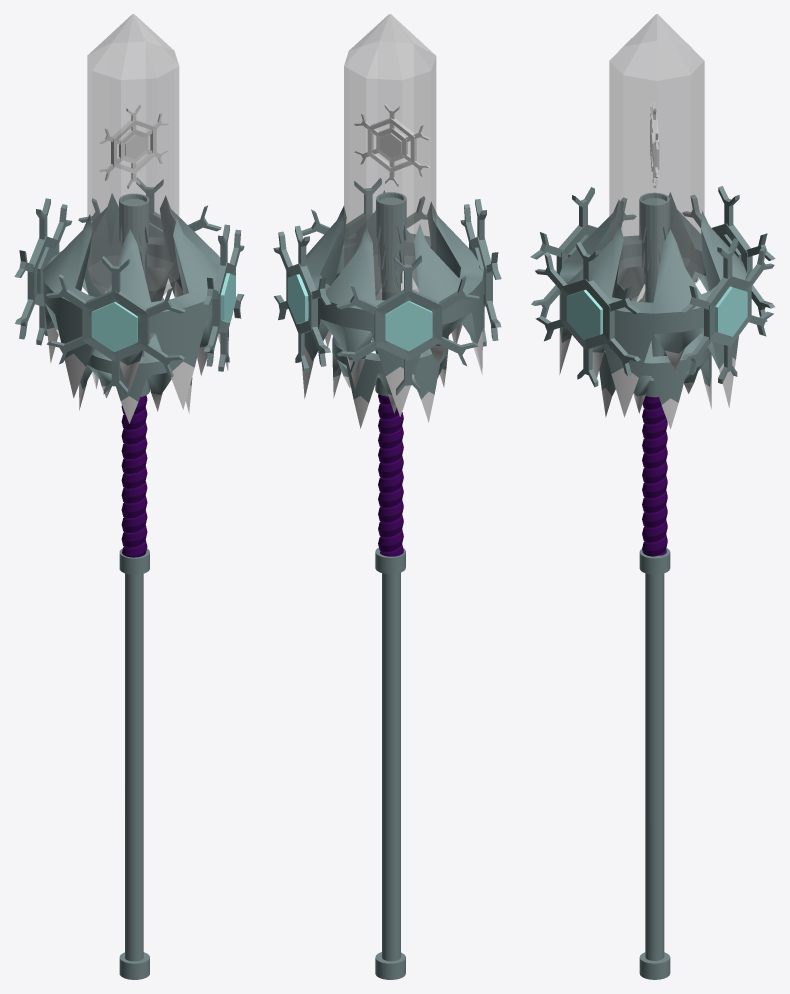
Rendered from Permafrost Staff.fbx.
3 views of the same model, side by side, from view 1: azimuth 30°, elevation 25°; view 2: azimuth 150°, elevation 25°; view 3: azimuth 270°, elevation 25° (orthographic).
Visible parts, largest first — view 1: pPrism8, pPipe7, pCylinder6, pasted__pPrism7 (×3), pPrism7, pasted__pHelix1 (×3), pasted__pCube2 (×4), pasted__pPipe7, pasted__pasted__pCube2 (×2), pCube2, pPipe6, pasted__pasted__pPipe6 (+1 smaller); view 2: pPrism8, pPipe7, pCylinder6, pasted__pPrism7 (×3), pasted__pPipe7, pasted__pHelix1 (×3), pasted__pasted__pCube2 (×3), pasted__pCube2 (×3), pPrism7, pHelix1, pPipe6, pasted__pasted__pPipe6; view 3: pPrism8, pPipe7, pCylinder6, pasted__pPrism7 (×3), pasted__pPipe7, pasted__pasted__pCube2 (×5), pasted__pHelix1 (×3), pasted__pCube2 (×2), pHelix1, pPrism7, pPipe6, pasted__pasted__pPipe6.
Part boxes in pixels (x1,y1,x2,y2): pPrism8: [87, 14, 179, 301]; pPipe7: [43, 193, 228, 409]; pCylinder6: [119, 193, 149, 961]; pasted__pPrism7 (×3): [27, 119, 235, 333]; pPrism7: [82, 291, 149, 361]; pasted__pHelix1 (×3): [121, 422, 147, 557]; pasted__pCube2 (×4): [36, 198, 229, 377]; pasted__pPipe7: [79, 297, 192, 423]; pasted__pasted__pCube2 (×2): [15, 204, 244, 366]; pCube2: [102, 255, 129, 396]; pPipe6: [119, 952, 149, 979]; pasted__pasted__pPipe6: [119, 548, 149, 574]; pPrism8: [344, 14, 436, 300]; pPipe7: [302, 190, 483, 416]; pCylinder6: [376, 192, 406, 961]; pasted__pPrism7 (×3): [286, 118, 442, 360]; pasted__pPipe7: [332, 335, 448, 428]; pasted__pHelix1 (×3): [378, 426, 403, 556]; pasted__pasted__pCube2 (×3): [273, 231, 479, 373]; pasted__pCube2 (×3): [295, 204, 501, 395]; pPrism7: [469, 237, 492, 306]; pHelix1: [378, 394, 403, 433]; pPipe6: [375, 952, 405, 979]; pasted__pasted__pPipe6: [375, 547, 405, 574]; pPrism8: [609, 14, 704, 302]; pPipe7: [559, 192, 747, 417]; pCylinder6: [639, 192, 669, 960]; pasted__pPrism7 (×3): [561, 223, 752, 349]; pasted__pPipe7: [599, 291, 711, 429]; pasted__pasted__pCube2 (×5): [535, 194, 774, 376]; pasted__pHelix1 (×3): [642, 423, 667, 556]; pasted__pCube2 (×2): [576, 238, 738, 387]; pHelix1: [642, 396, 667, 438]; pPrism7: [556, 224, 597, 274]; pPipe6: [639, 952, 670, 979]; pasted__pasted__pPipe6: [639, 548, 670, 574].
Size of the model in its own units: 2.55 by 11.28 by 2.62.
